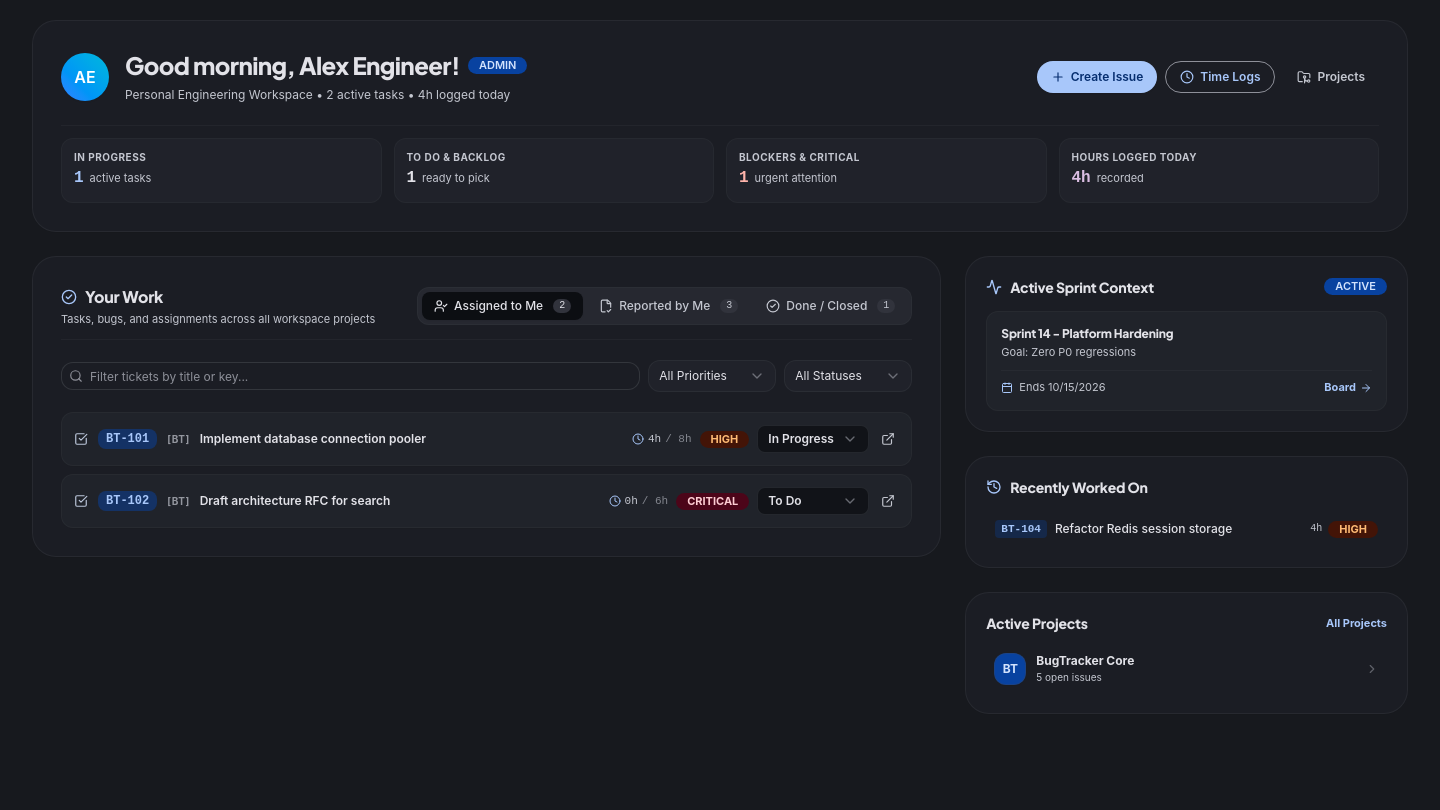
Test: HomePage (Personal Dashboard) › renders workflow queue tabs and filters tasks by active tab
Check: the text "Implement database connection pooler" is shown, box [200,431,426,447]
Check: the text "Draft architecture RFC for search" is shown, box [200,493,390,509]
Note: Switch to Done tab
Step 1. Click the tab "Done / Closed 1" → (831, 306), box [754,292,907,320]
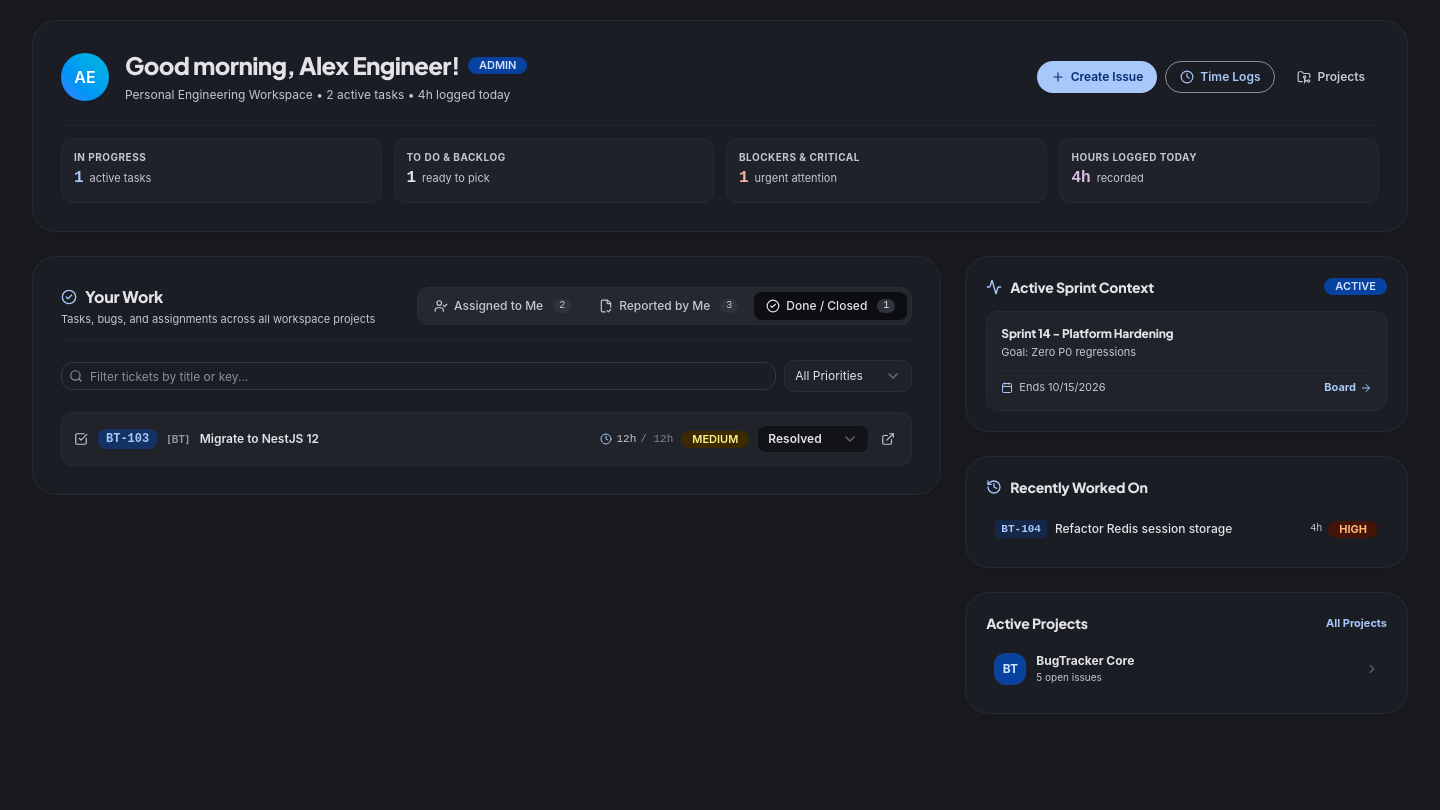
Check: the text "Migrate to NestJS 12" is shown, box [200,431,319,447]
